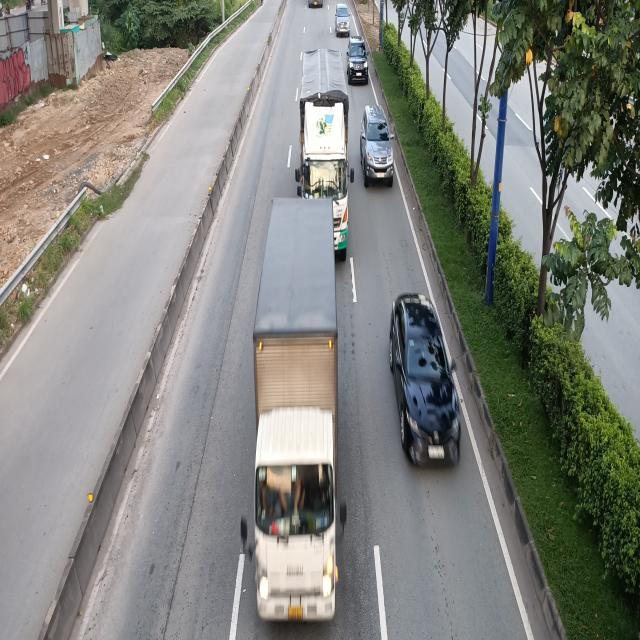car: (388, 293, 462, 468), (358, 104, 394, 188), (346, 37, 369, 86), (334, 2, 350, 36)
truck: (240, 194, 344, 622), (295, 48, 354, 260)
